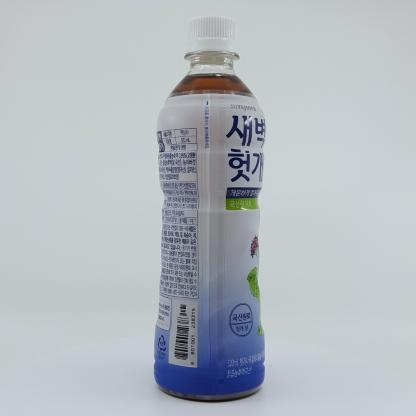---------520ML: (153, 16, 267, 400)
